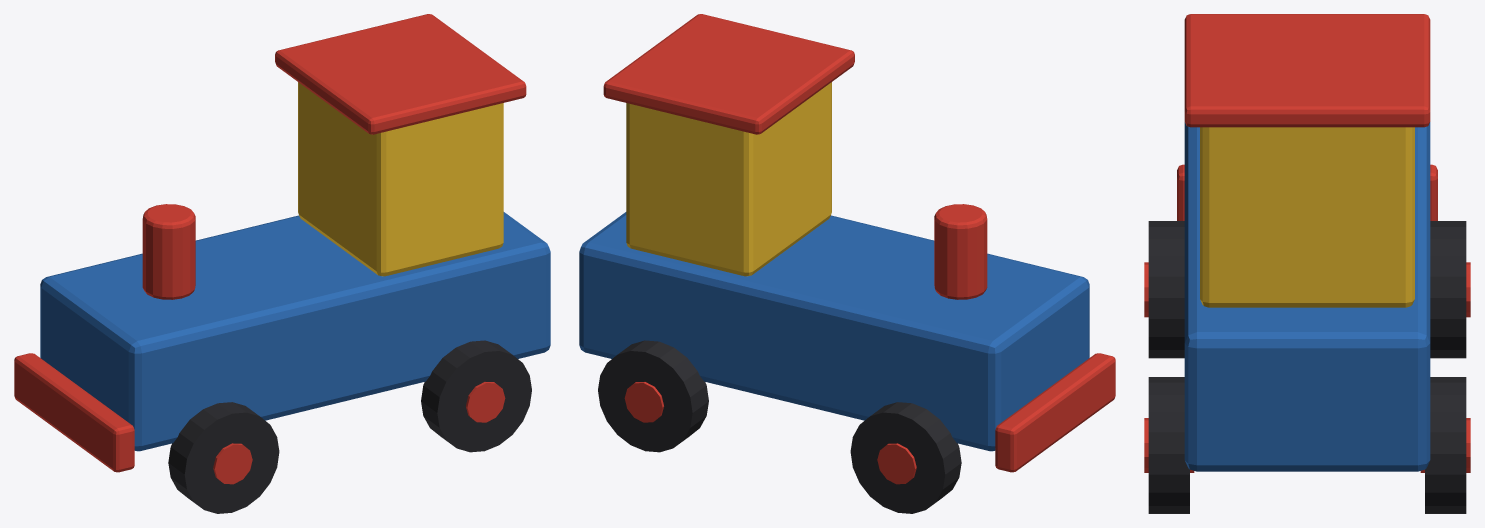
The model's file is ToyTrain.fbx.
3 renders of one model, left to right at view 1: azimuth 30°, elevation 25°; view 2: azimuth 150°, elevation 25°; view 3: azimuth 270°, elevation 25°, orthographic. The views are drawn at different scales.
Visible parts, largest first — view 1: Train_Body, Train_Cabin, Train_Roof, Train_Wheels_Rear, Train_Wheels_Front, Train_Bumper, Train_Chimney; view 2: Train_Body, Train_Cabin, Train_Roof, Train_Wheels_Rear, Train_Wheels_Front, Train_Bumper, Train_Chimney; view 3: Train_Body, Train_Cabin, Train_Roof, Train_Wheels_Rear, Train_Wheels_Front, Train_Bumper.
Part boxes in pixels (x1,y1,x2,y2): Train_Body: [40, 212, 550, 451]; Train_Cabin: [298, 82, 503, 276]; Train_Roof: [275, 14, 526, 134]; Train_Wheels_Rear: [421, 340, 531, 452]; Train_Wheels_Front: [168, 402, 279, 513]; Train_Bumper: [14, 353, 134, 472]; Train_Chimney: [142, 204, 195, 299]; Train_Body: [579, 212, 1089, 451]; Train_Cabin: [626, 82, 831, 276]; Train_Roof: [603, 14, 854, 134]; Train_Wheels_Rear: [598, 340, 708, 452]; Train_Wheels_Front: [850, 402, 961, 513]; Train_Bumper: [995, 353, 1115, 472]; Train_Chimney: [934, 204, 987, 299]; Train_Body: [1184, 122, 1430, 471]; Train_Cabin: [1200, 127, 1414, 307]; Train_Roof: [1184, 14, 1430, 127]; Train_Wheels_Rear: [1144, 377, 1470, 513]; Train_Wheels_Front: [1144, 221, 1470, 358]; Train_Bumper: [1177, 164, 1437, 220].
Bounding box in the file's own units: 0.21 × 0.1563 × 0.1062.
